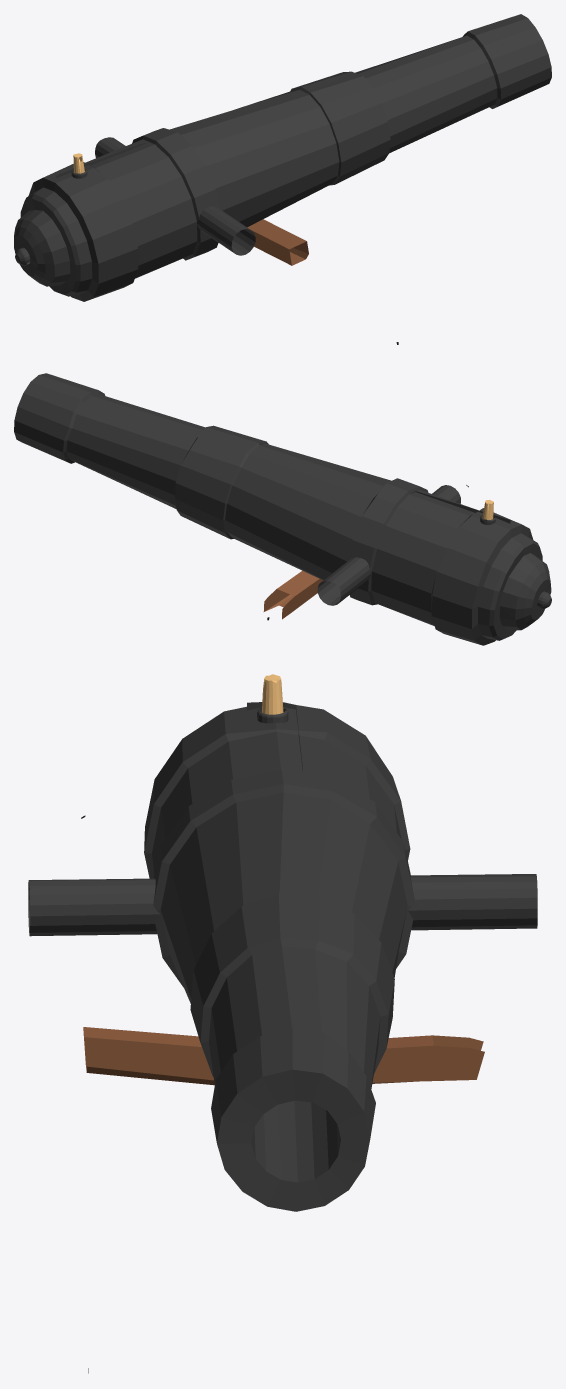
File: cannon_rail.glb
3 renders of one model, top to bottom at view 1: azimuth 30°, elevation 25°; view 2: azimuth 150°, elevation 25°; view 3: azimuth 270°, elevation 25°, orthographic. The views are drawn at different scales.
Parts seen in each view (by area): view 1: cannon-rail; view 2: cannon-rail; view 3: cannon-rail.
Boxes of the visible parts, x1,y1,x2,y2 form: cannon-rail: (14,14,551,301); cannon-rail: (14,373,551,645); cannon-rail: (28,674,537,1211).
Size of the model in its own units: 1.33 by 0.5902 by 0.5696.
